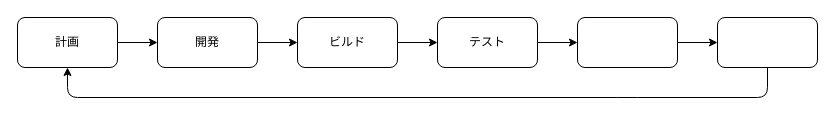
The diagram is 835 pixels wide and 123 high, and some of its shapes have lost their labels. The shapes that lost their labels are listed below. From the top down, each one's centre as x and y in pixels, then its label:
the point at 627,42: リリース
the point at 767,42: 運用
